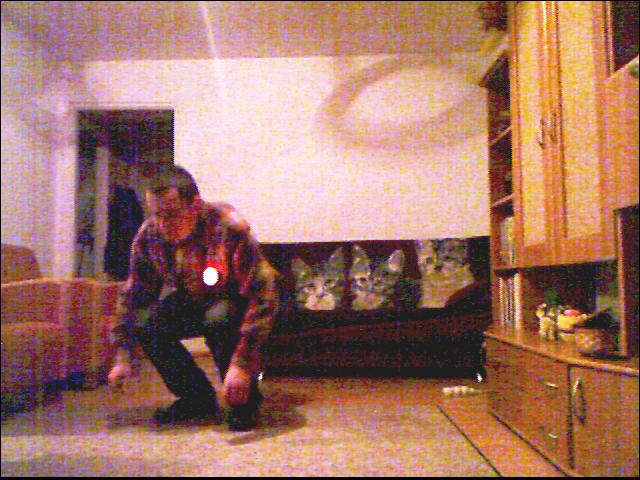sitting: (94, 159, 303, 441)
